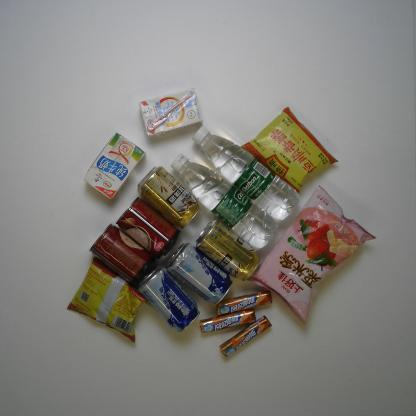Alcohol: (164, 242, 233, 306), (137, 265, 201, 333), (137, 166, 202, 230), (195, 219, 261, 282)
Candy: (219, 315, 272, 358), (216, 289, 273, 316), (199, 307, 257, 333)
Canned Food: (89, 223, 155, 287), (115, 196, 181, 260)
Drink: (190, 125, 302, 223), (169, 152, 280, 250)
Milk: (82, 132, 146, 200), (138, 88, 203, 138)
Puffed Food: (246, 185, 378, 323)
Seasoner: (240, 106, 340, 195), (66, 256, 149, 343)
